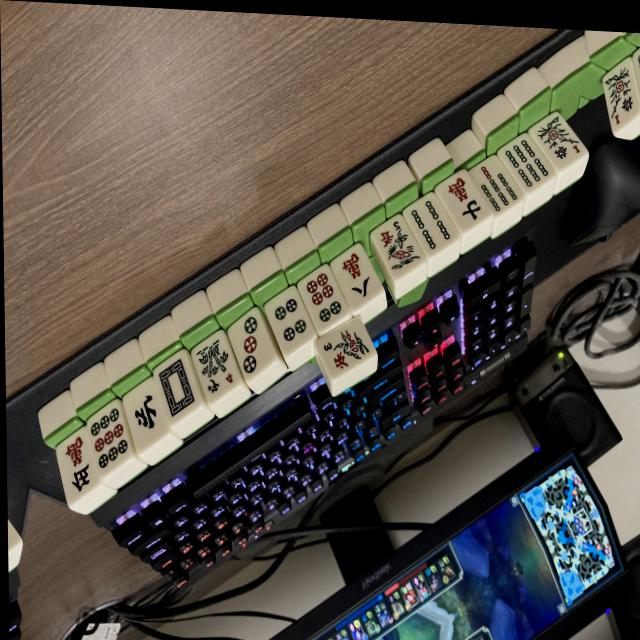bai: (149, 351, 207, 427)
f1: (529, 109, 587, 172), (601, 63, 640, 135)
f4: (186, 331, 246, 404)
ff2: (367, 212, 426, 280)
ff3: (312, 316, 377, 384)
m5: (54, 426, 105, 507)
m7: (434, 170, 491, 234)
m8: (327, 243, 385, 312)
north: (118, 379, 175, 453)
s4: (400, 192, 460, 260)
s6: (497, 133, 555, 197)
s7: (469, 155, 523, 218)
t3: (221, 306, 283, 382)
t4: (260, 286, 319, 357)
t6: (294, 264, 352, 337)
t9: (83, 400, 138, 477)
